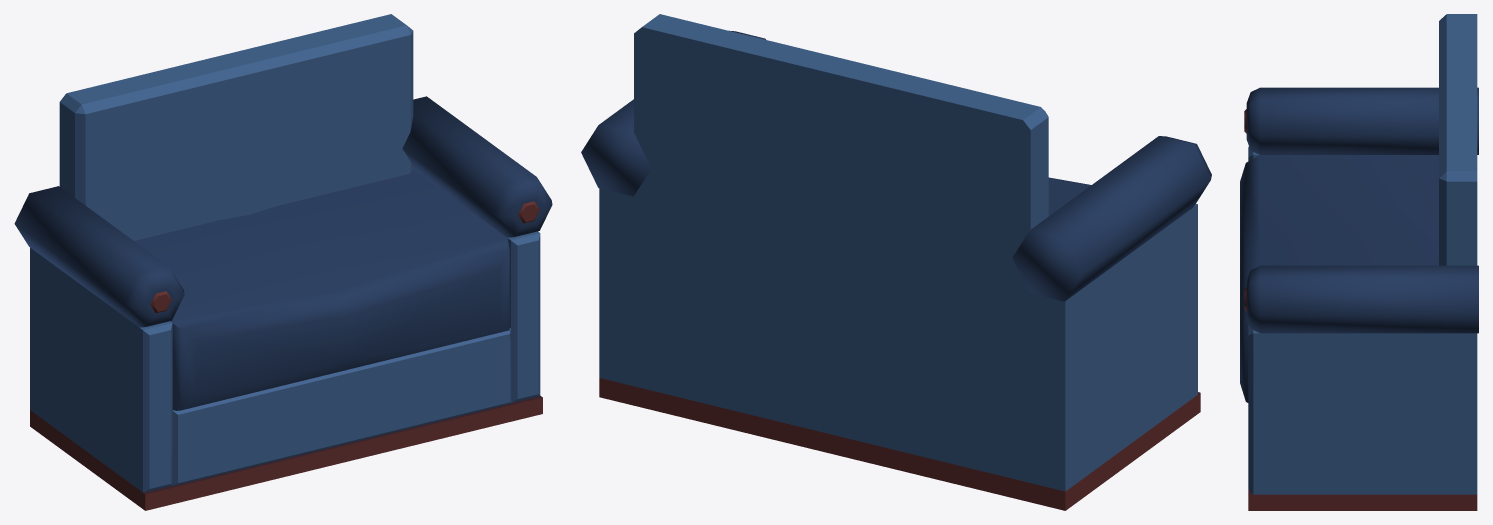
File: SofaOffice.fbx
3 renders of one model, left to right at view 1: azimuth 30°, elevation 25°; view 2: azimuth 150°, elevation 25°; view 3: azimuth 270°, elevation 25°, orthographic. The views are drawn at different scales.
Visible parts, largest first — view 1: SofaOffice; view 2: SofaOffice; view 3: SofaOffice.
Part boxes in pixels (x1,y1,x2,y2): SofaOffice: (14, 14, 552, 510); SofaOffice: (581, 14, 1211, 510); SofaOffice: (1240, 14, 1478, 510).
Size of the model in its own units: 133 by 96.46 by 64.87.
